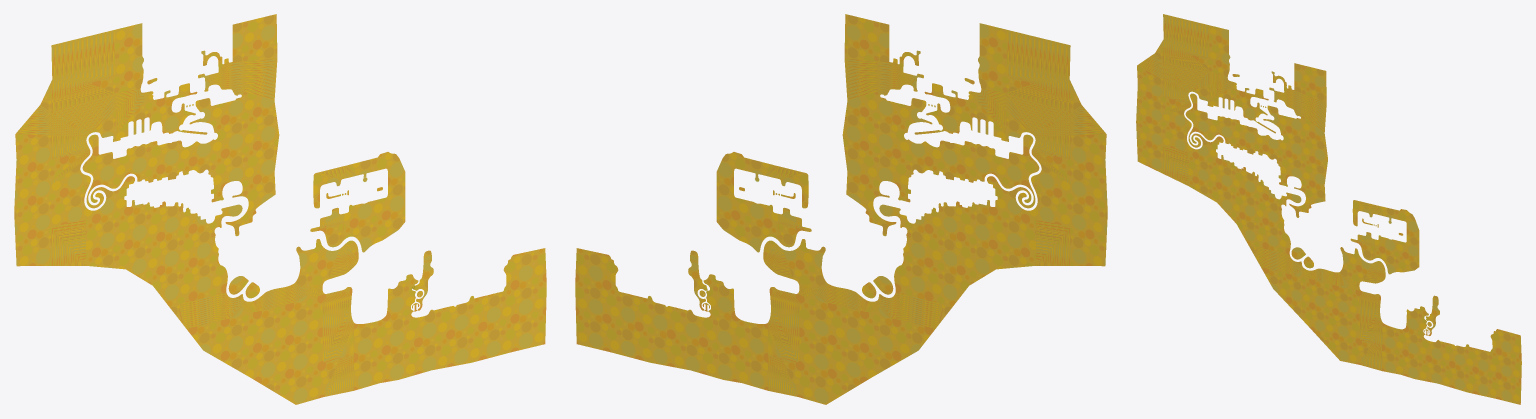
File: iseki01.glb
3 views of the same model, side by side, from view 1: azimuth 30°, elevation 25°; view 2: azimuth 150°, elevation 25°; view 3: azimuth 330°, elevation 25° (orthographic). The views are drawn at different scales.
Parts seen in each view (by area): view 1: iseki01; view 2: iseki01; view 3: iseki01.
Part boxes in pixels (x1=…): iseki01: x1=14, y1=14, x2=546, y2=404; iseki01: x1=575, y1=14, x2=1107, y2=404; iseki01: x1=1136, y1=14, x2=1521, y2=404.
Bounding box in the file's own units: 3308 × 2493 × 37.22.
Materials: 2 (2 with a texture image).
